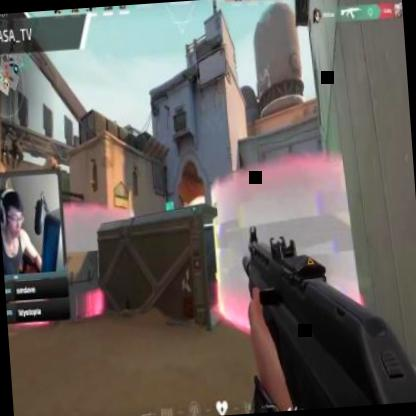enemy: (184, 202, 192, 240)
enemy_head: (184, 202, 188, 210)
